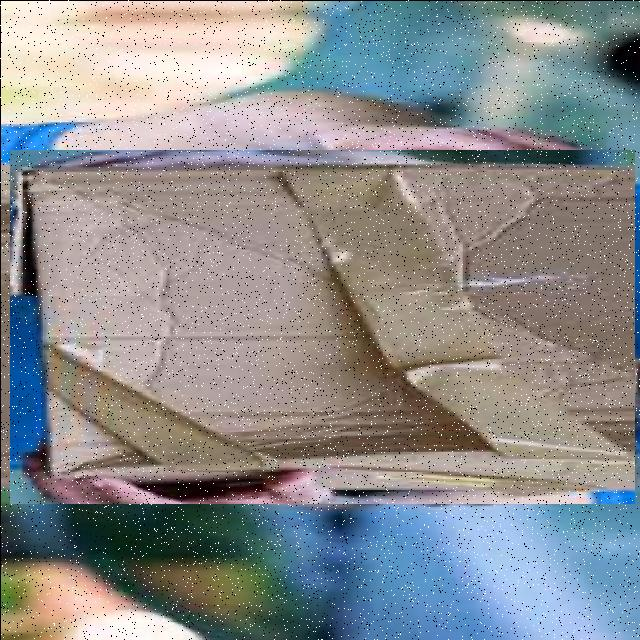defect: (9, 149, 634, 503)
